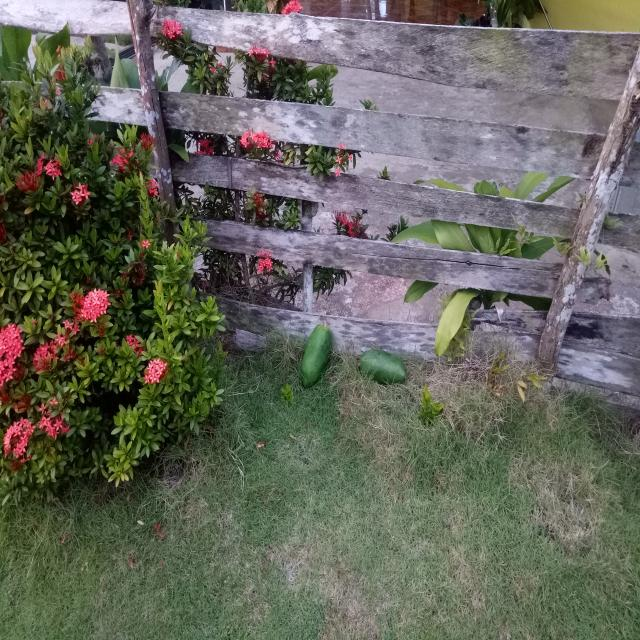Pepaya unrippen: (355, 341, 414, 398), (293, 320, 336, 390)
